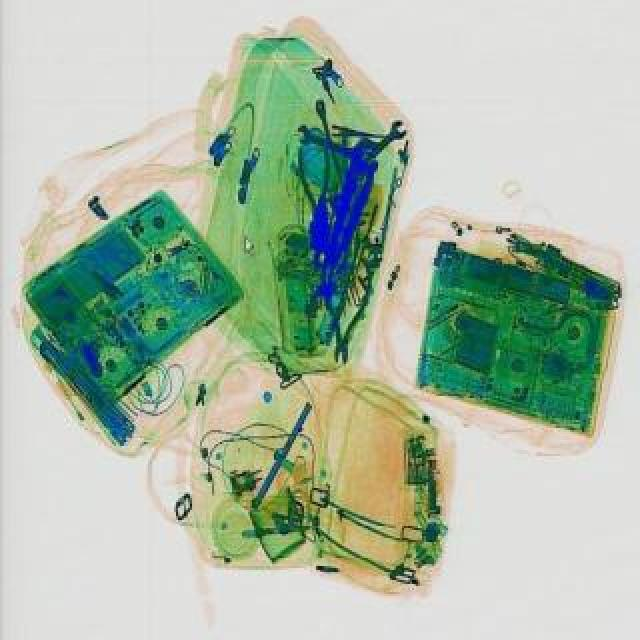scissors: (292, 122, 360, 162), (356, 116, 408, 166)
wrench: (316, 254, 372, 366), (296, 146, 334, 222)
